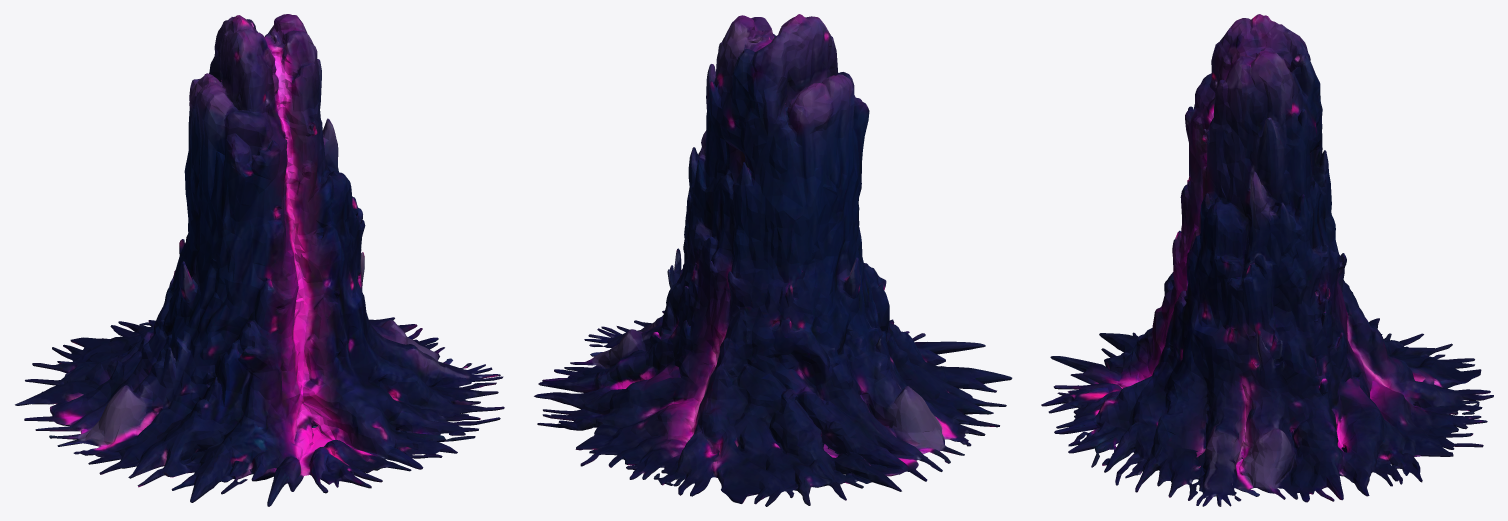
File: root-south-generated-2026-04-19T05-48-05-767Z.medium.glb
3 renders of one model, left to right at view 1: azimuth 30°, elevation 25°; view 2: azimuth 150°, elevation 25°; view 3: azimuth 270°, elevation 25°, orthographic. The views are drawn at different scales.
Visible parts, largest first — view 1: temp_mesh.ply; view 2: temp_mesh.ply; view 3: temp_mesh.ply.
Part boxes in pixels (x1,y1,x2,y2): temp_mesh.ply: (15,14,504,506); temp_mesh.ply: (534,14,1012,506); temp_mesh.ply: (1041,14,1493,506).
Bounding box in the file's own units: 1.97 × 1.83 × 1.96.
1 material, 1 textured.
